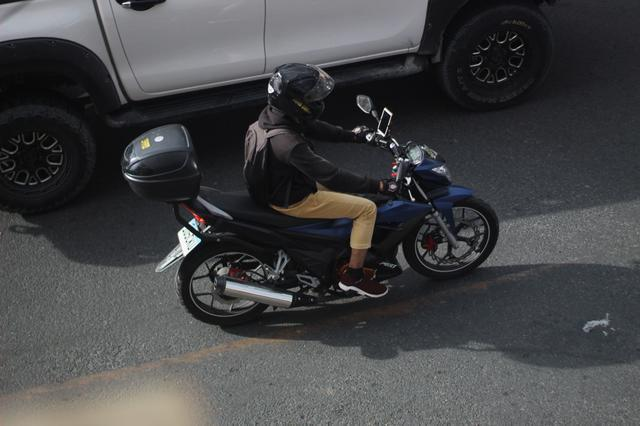helmet: (264, 61, 334, 127)
motorcycle: (157, 61, 501, 323)
